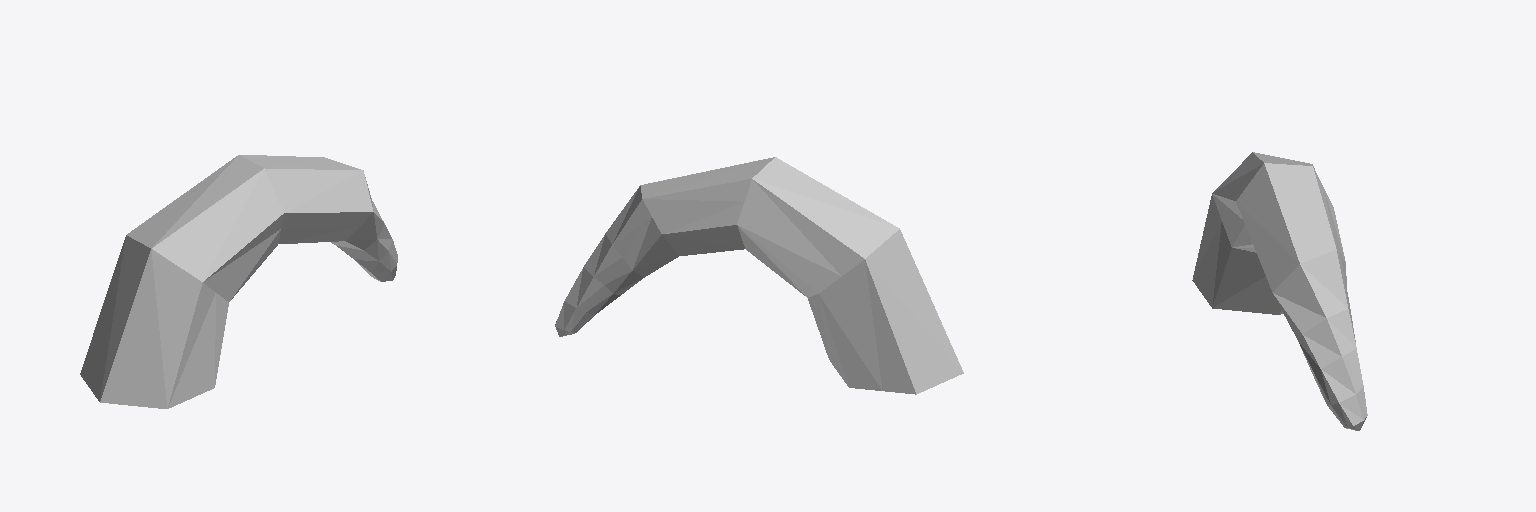
File: sholazar_root04.obj
3 views of the same model, side by side, from view 1: azimuth 30°, elevation 25°; view 2: azimuth 150°, elevation 25°; view 3: azimuth 270°, elevation 25° (orthographic).
Parts seen in each view (by area): view 1: sholazar_root04; view 2: sholazar_root04; view 3: sholazar_root04.
Part boxes in pixels (left/top/right/bottom): sholazar_root04: left=80, top=155, right=397, bottom=408; sholazar_root04: left=555, top=157, right=963, bottom=394; sholazar_root04: left=1192, top=152, right=1367, bottom=430.
Size of the model in its own units: 7.56 by 3.82 by 3.26.